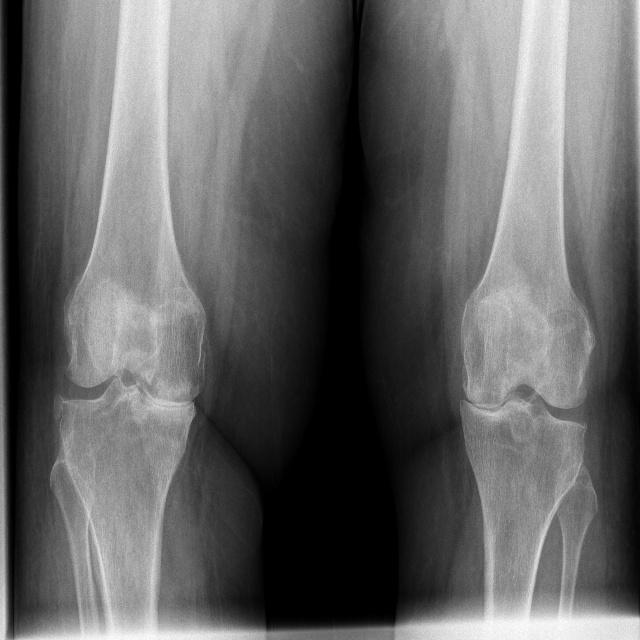Knee: (51, 287, 209, 472), (455, 293, 593, 477)
